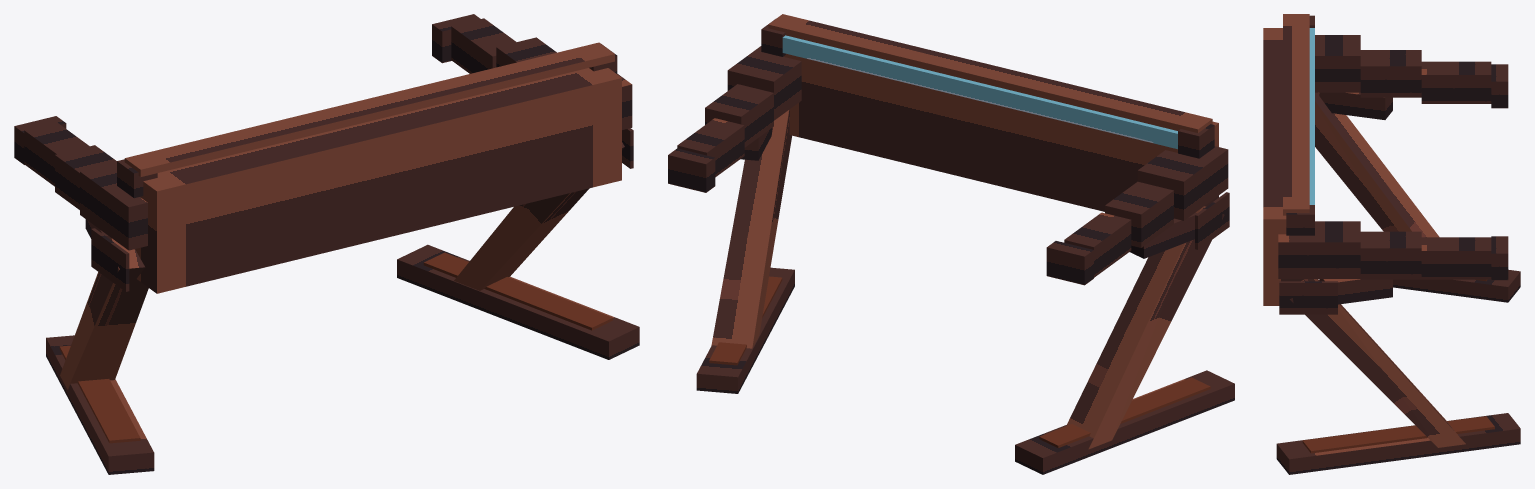
File: atlantis_shield_frame.obj
3 views of the same model, side by side, from view 1: azimuth 30°, elevation 25°; view 2: azimuth 150°, elevation 25°; view 3: azimuth 270°, elevation 25° (orthographic). The views are drawn at different scales.
Parts seen in each view (by area): view 1: shield_part_18_86, shield_part_18_88, shield_part_26_100, solid_leg_131, shield_part_3_21, shield_part_26_98, solid_leg_134, shield_part_5_34, shield_part_3_22, shield_part_14_63, shield_part_2_16, shield_part_0_4 (+15 smaller); view 2: shield_part_18_84, solid_leg_136, shield_part_25_90, shield_part_26_100, solid_leg_130, solid_leg_128, shield_part_0_3, shield_part_26_96, shield_part_2_16, shield_part_14_63, shield_part_0_4, shield_part_14_64 (+23 smaller); view 3: shield_part_26_100, solid_leg_135, shield_part_18_88, shield_part_3_19, solid_leg_129, shield_part_17_79, solid_leg_130, shield_part_12_49, shield_part_15_67, shield_part_13_55, shield_part_16_73, shield_part_5_34 (+22 smaller).
Part boxes in pixels (box(x1,y1,x2,y2)): shield_part_18_86: box(157, 78, 621, 293); shield_part_18_88: box(143, 68, 621, 191); shield_part_26_100: box(125, 42, 614, 169); solid_leg_131: box(67, 267, 148, 389); shield_part_3_21: box(397, 259, 608, 359); shield_part_26_98: box(140, 54, 614, 176); solid_leg_134: box(454, 193, 569, 290); shield_part_5_34: box(424, 252, 612, 327); shield_part_3_22: box(397, 244, 638, 341); shield_part_14_63: box(80, 172, 128, 249); shield_part_2_16: box(60, 345, 140, 440); shield_part_0_4: box(46, 335, 153, 456); shield_part_18_84: box(783, 53, 1177, 211); solid_leg_136: box(711, 110, 788, 348); shield_part_25_90: box(782, 37, 1177, 149); shield_part_26_100: box(768, 14, 1211, 129); solid_leg_130: box(1066, 209, 1200, 449); solid_leg_128: box(1089, 207, 1224, 449); shield_part_0_3: box(1043, 383, 1234, 474); shield_part_26_96: box(768, 24, 1197, 132); shield_part_2_16: box(1039, 377, 1210, 445); shield_part_14_63: box(1184, 149, 1228, 220); shield_part_0_4: box(1015, 370, 1234, 457); shield_part_14_64: box(1138, 146, 1227, 181); shield_part_26_100: box(1283, 14, 1309, 209); solid_leg_135: box(1290, 280, 1465, 447); shield_part_18_88: box(1263, 28, 1286, 219); shield_part_3_19: box(1289, 428, 1520, 474); solid_leg_129: box(1315, 101, 1411, 231); shield_part_17_79: box(1278, 242, 1360, 278); solid_leg_130: box(1315, 92, 1439, 237); shield_part_12_49: box(1421, 75, 1491, 103); shield_part_15_67: box(1421, 251, 1491, 279); shield_part_13_55: box(1360, 66, 1421, 97); shield_part_16_73: box(1360, 248, 1421, 279); shield_part_5_34: box(1302, 416, 1494, 450).
Size of the model in its own units: 2.4 by 1.3 by 1.19.
